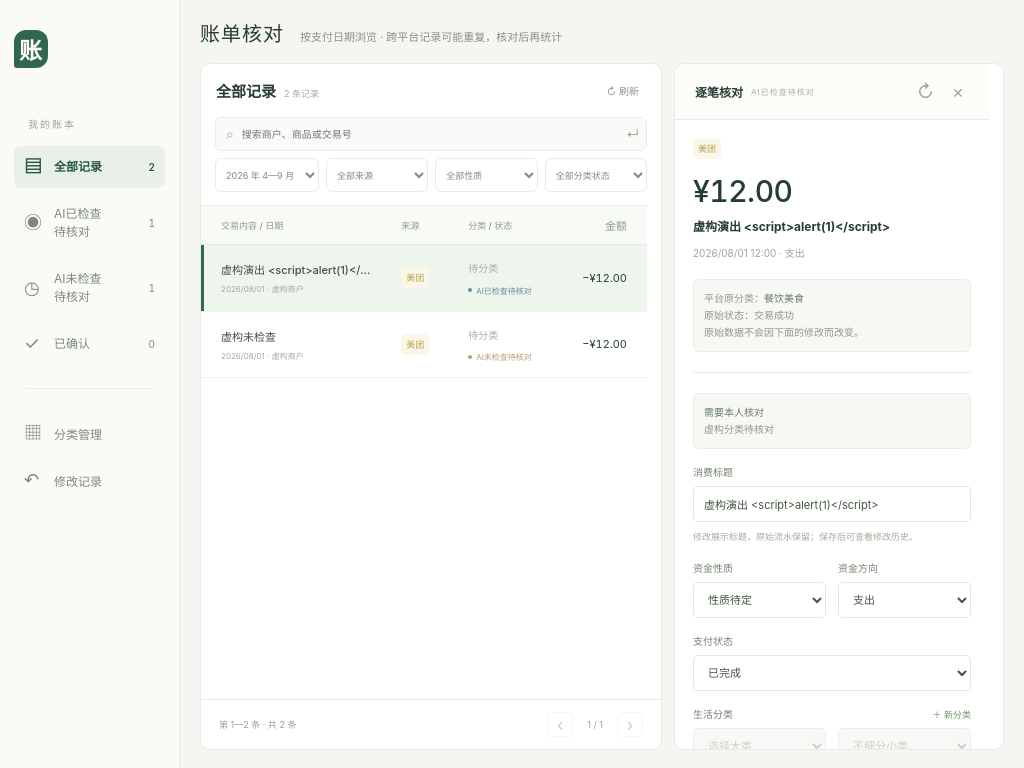
it: filters reviewed and unreviewed pending bills with independent counts and labels
Check: the dropdown labelled "资金性质" is shown, box top-left (693, 582), bottom-right (826, 618)
Check: the button "◷ AI未检查待核对 1" is shown, box top-left (14, 258), bottom-right (165, 318)
Click the button "◉ AI已检查待核对 1" at (90, 223), box top-left (14, 193), bottom-right (165, 253)
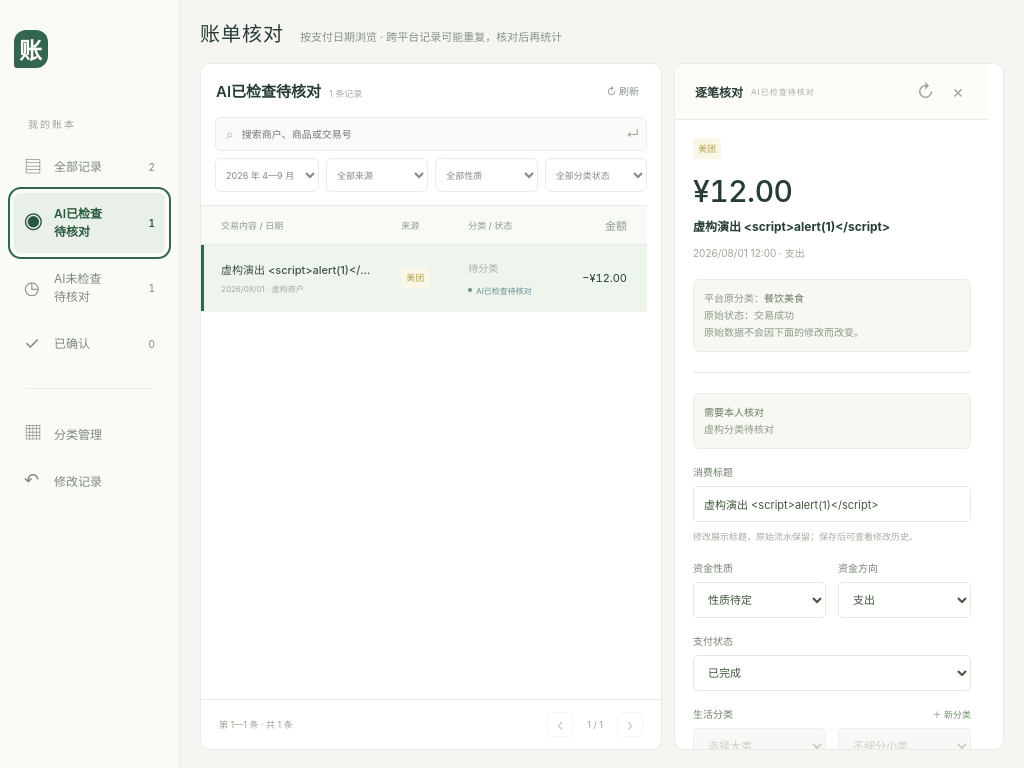
Check: the element "逐笔核对" shows "AI已检查待核对", box top-left (751, 87), bottom-right (815, 97)
Check: the text "虚构未检查" is gone
Click the button "◷ AI未检查待核对 1" at (90, 288), box top-left (14, 258), bottom-right (165, 318)
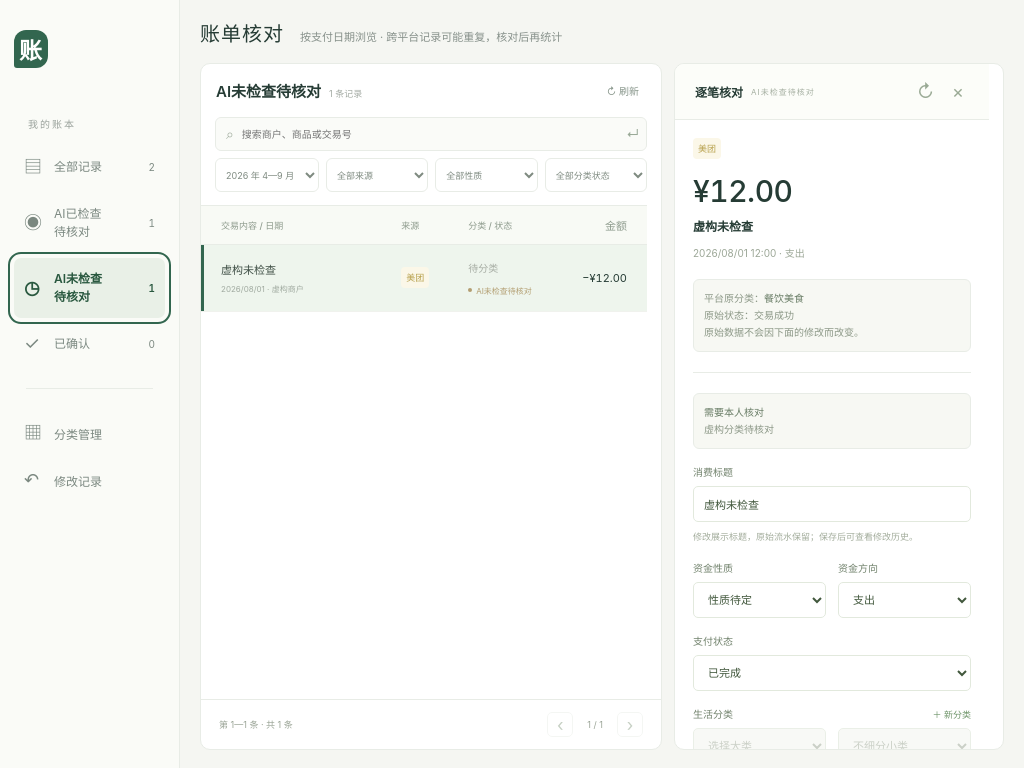
Check: the row "虚构未检查 2026/08/01 · 虚构商户 美团 待分类 AI未检查待核对 −¥12.00" is shown, box top-left (201, 244), bottom-right (647, 311)
